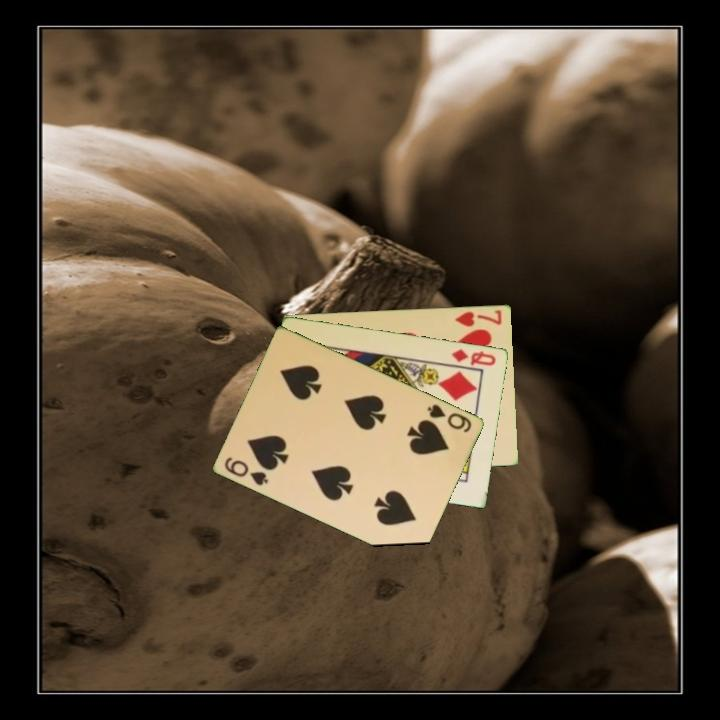6s: (424, 400, 475, 436), (221, 453, 272, 488)
7h: (452, 306, 505, 329)
Qd: (448, 345, 499, 368)
